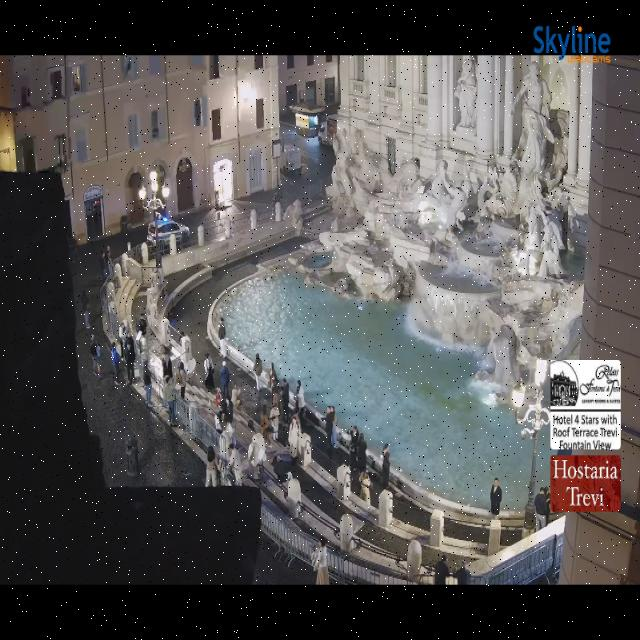person: (314, 538, 329, 584), (272, 386, 284, 442), (164, 376, 176, 427), (228, 443, 242, 485), (272, 455, 292, 484), (288, 417, 300, 463), (534, 488, 546, 531), (260, 405, 272, 448), (349, 426, 359, 476), (206, 446, 218, 487), (490, 478, 502, 517), (90, 335, 101, 377), (126, 333, 135, 384), (435, 556, 450, 584), (454, 560, 471, 584), (204, 353, 215, 390), (357, 432, 367, 472), (176, 362, 187, 398), (223, 415, 236, 445), (281, 378, 290, 421), (295, 380, 305, 418), (143, 360, 151, 407), (325, 406, 333, 452), (360, 471, 371, 504), (81, 290, 90, 330), (382, 444, 390, 489), (272, 385, 283, 417), (220, 362, 230, 397), (253, 353, 262, 391), (111, 342, 119, 384), (218, 317, 226, 357), (162, 349, 173, 377), (331, 406, 338, 448), (270, 406, 279, 438), (119, 322, 127, 358), (216, 390, 227, 415), (544, 488, 551, 525), (269, 363, 277, 392), (137, 313, 147, 336), (232, 384, 241, 408), (225, 398, 233, 422), (100, 252, 107, 279), (215, 411, 223, 434), (105, 245, 111, 263), (248, 419, 255, 432)
